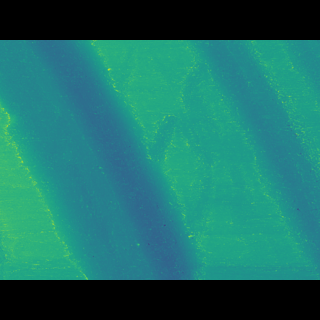Loch: (0, 69, 205, 250), (183, 69, 320, 245)
